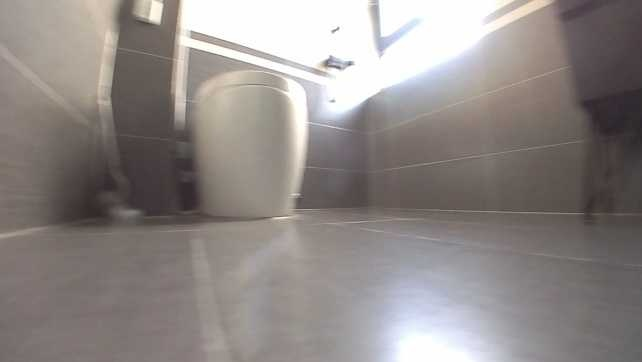toilet: (180, 64, 322, 217)
